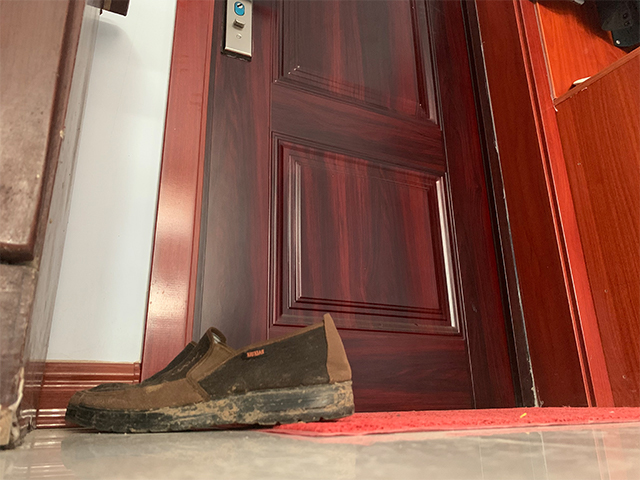carpet: (246, 405, 640, 438)
